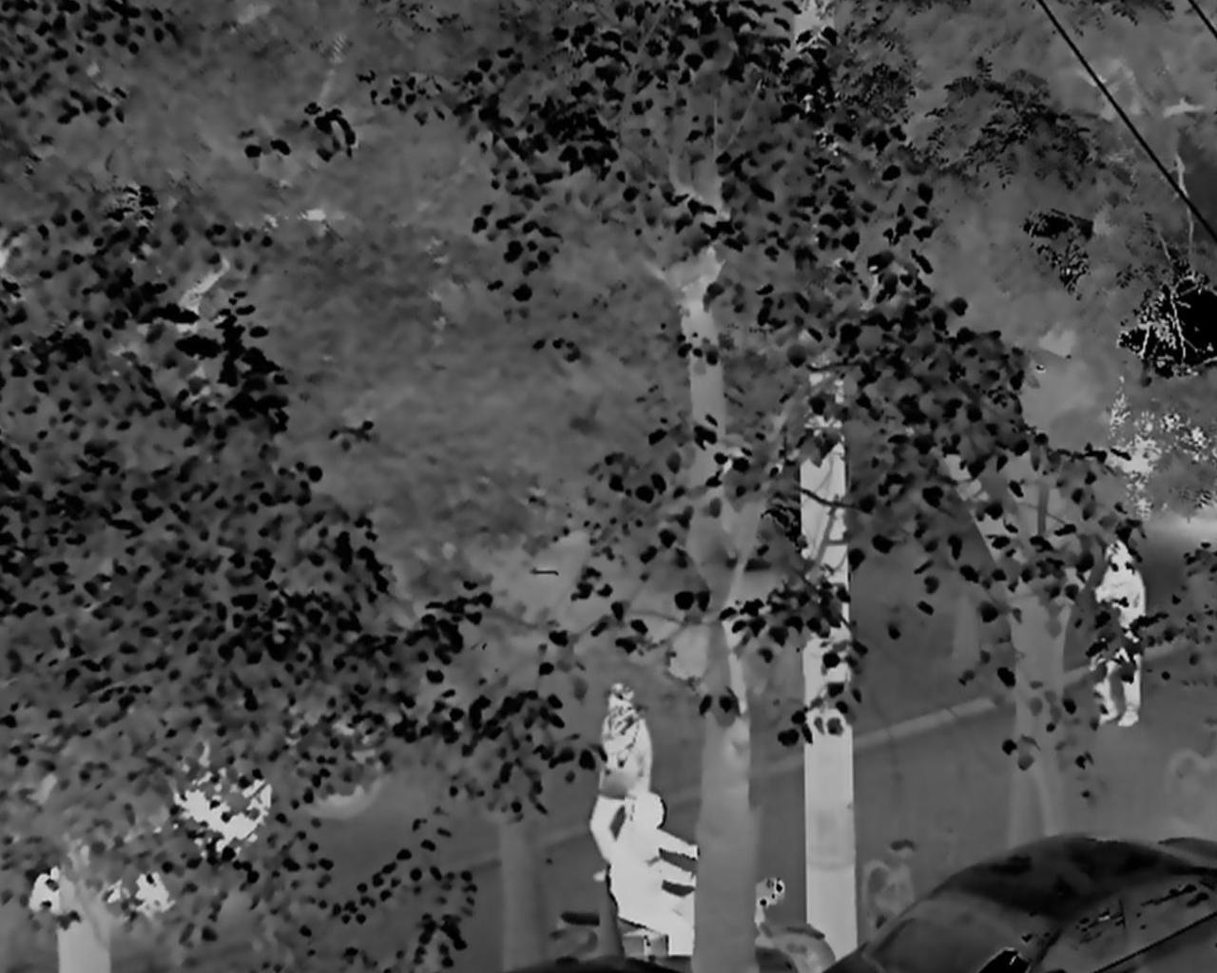person: (609, 795, 702, 973), (600, 685, 653, 886), (1096, 536, 1149, 733)
